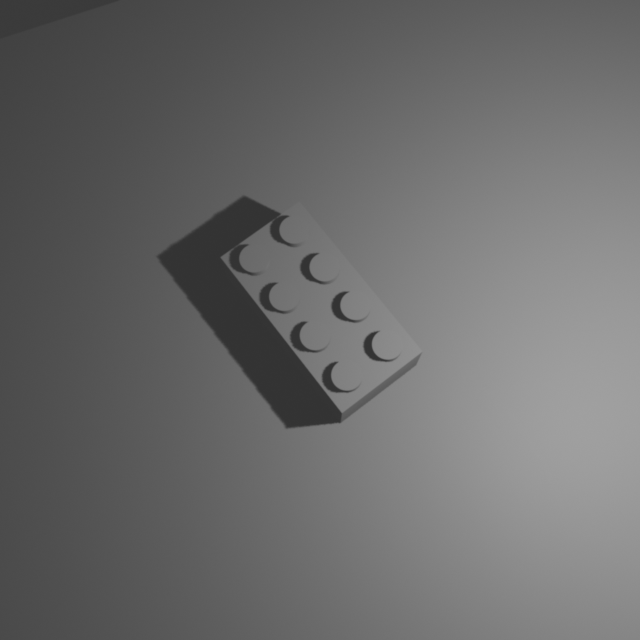lego_2x4: (219, 197, 424, 423)
